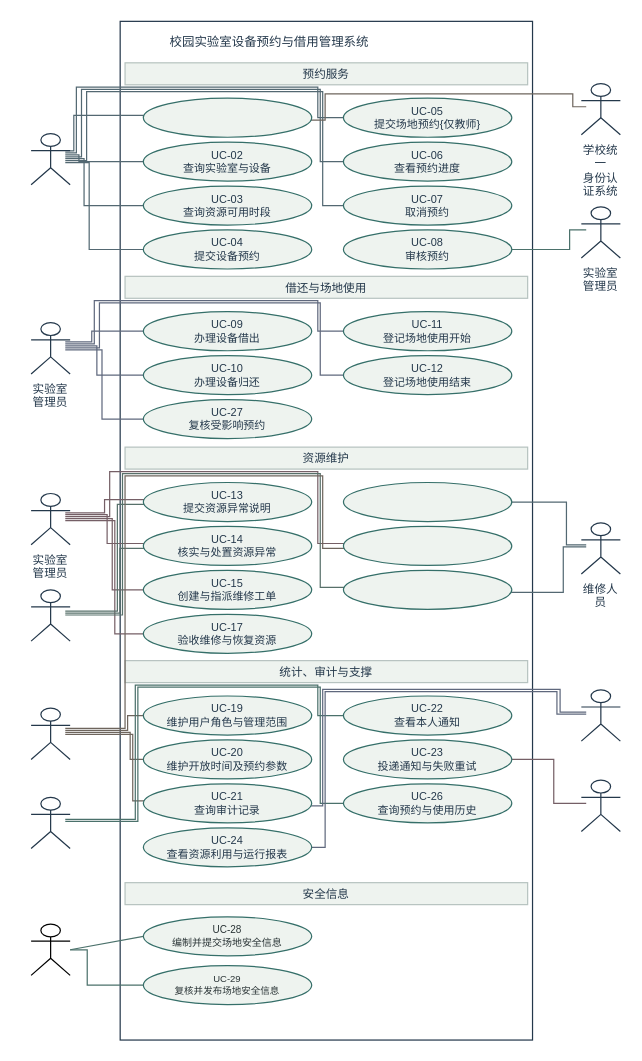
Some shapes in this 642 by 1061 pixel diagram are drawn without their labels. Each missing label, with the centre of its shape:
"UC-01 登录系统" belongs at (227,117).
"UC-16 处理维修任务" belongs at (427,501).
"UC-18 维护实验室与设备档案" belongs at (427,545).
"UC-25 提交与读取异常证据" belongs at (427,589).
"业务用户" belongs at (50,822).
"实验室管理员" belongs at (50,949).
"实验教学 中心主任" belongs at (600,715).
"消息服务" belongs at (600,805).
"系统 管理员" belongs at (50,733).
"预约申请人" belongs at (50,615).
"预约申请人 学生、教师" belongs at (50,158).
